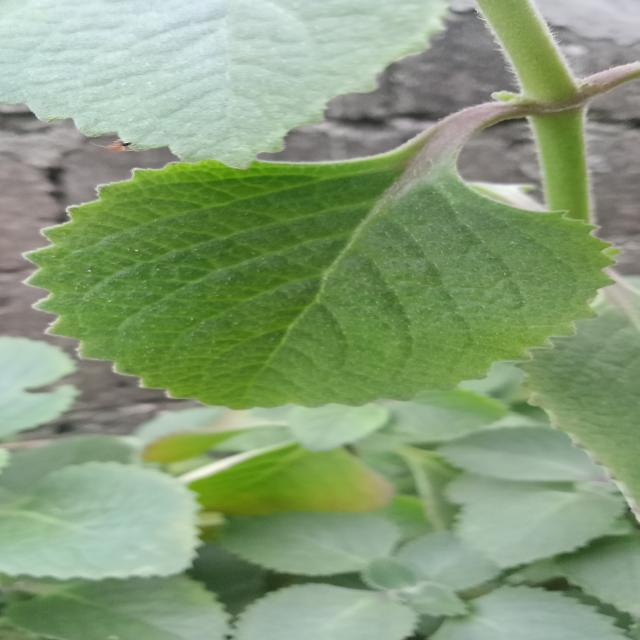Oregano: (12, 111, 620, 452)
